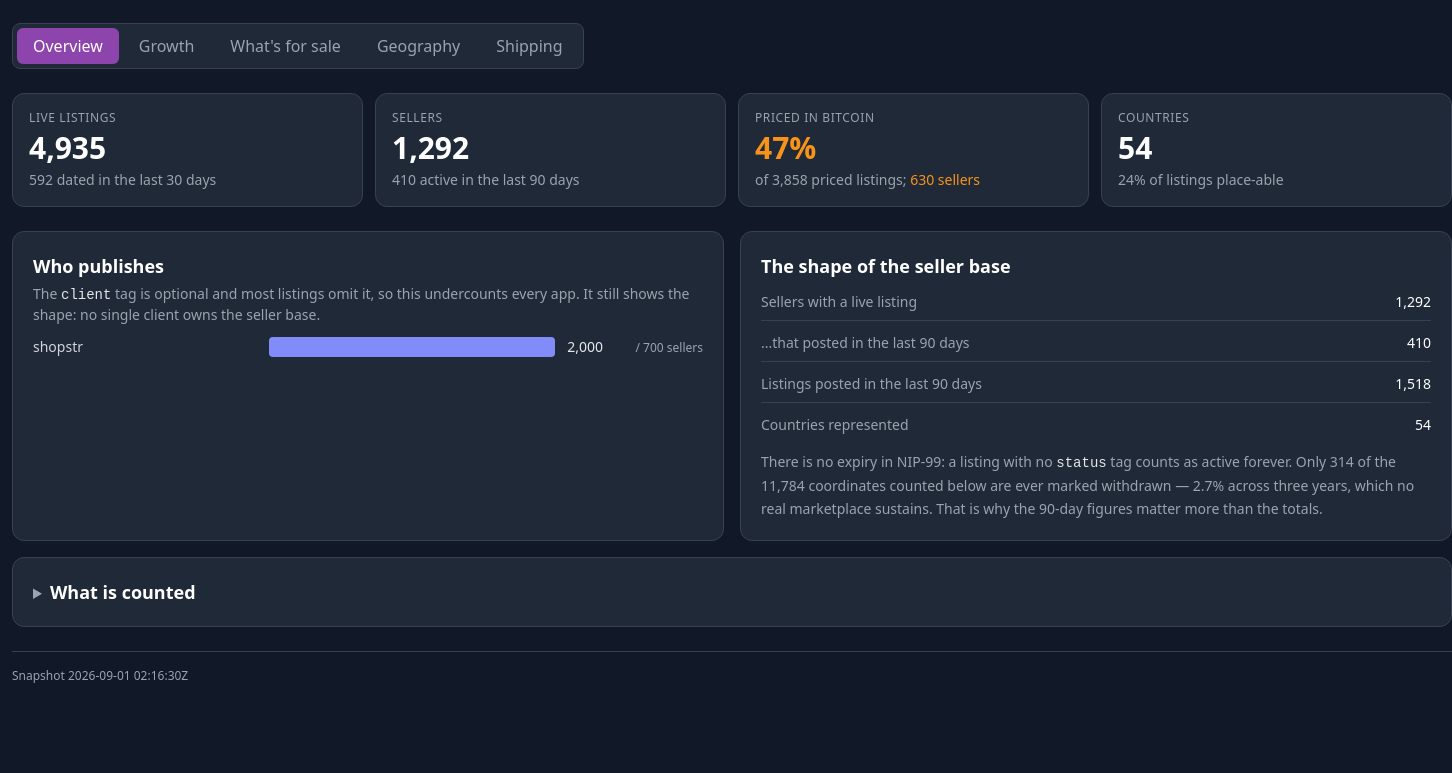
it: /marketplaces page (DB-powered) › marks no month on the 1st before a listing is dated in it: the month just completed is whole
Click the link with id "tab-growth" at (167, 46), box top-left (139, 35), bottom-right (194, 57)
(page scrolled)
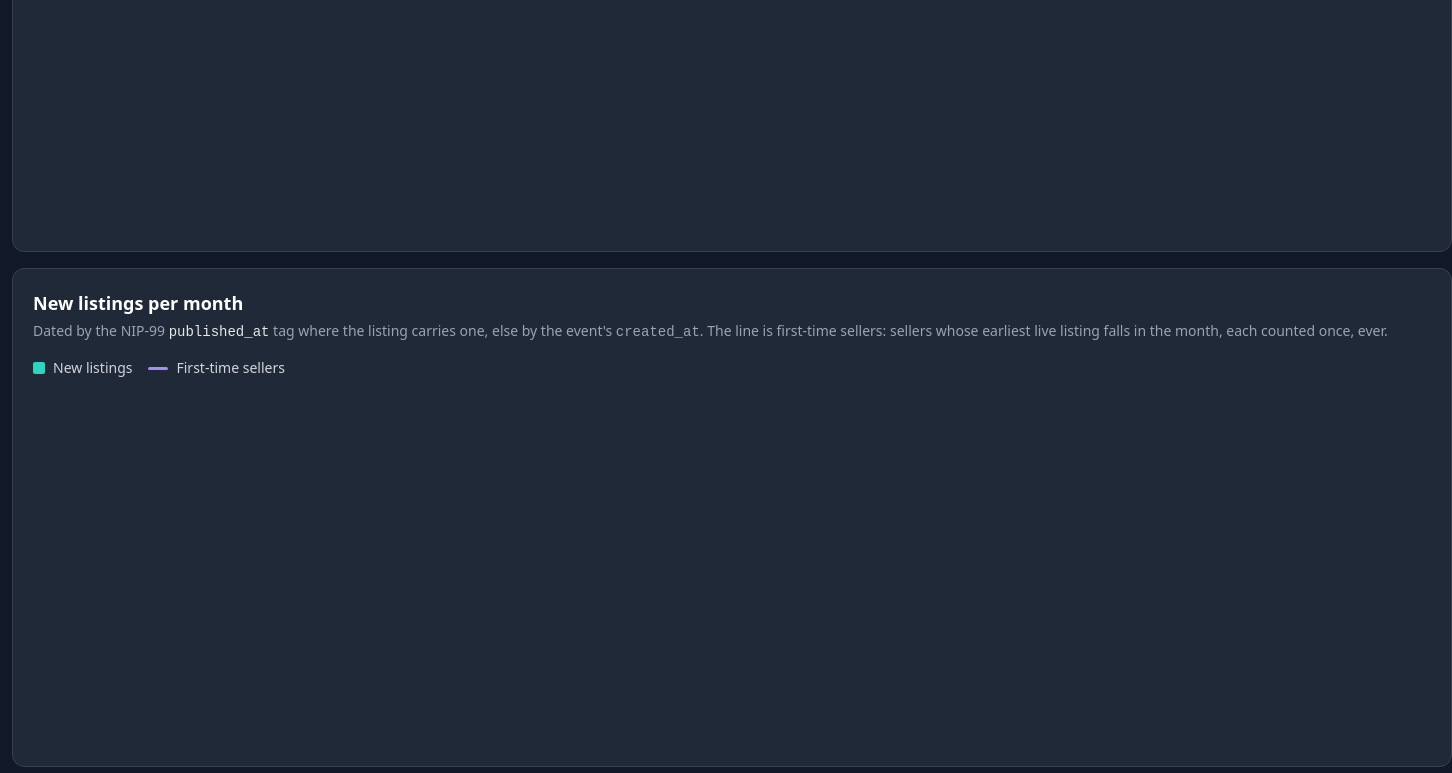
Expected: the list with test id "chart-legend" is shown, top-left (33, 358), bottom-right (285, 378)
